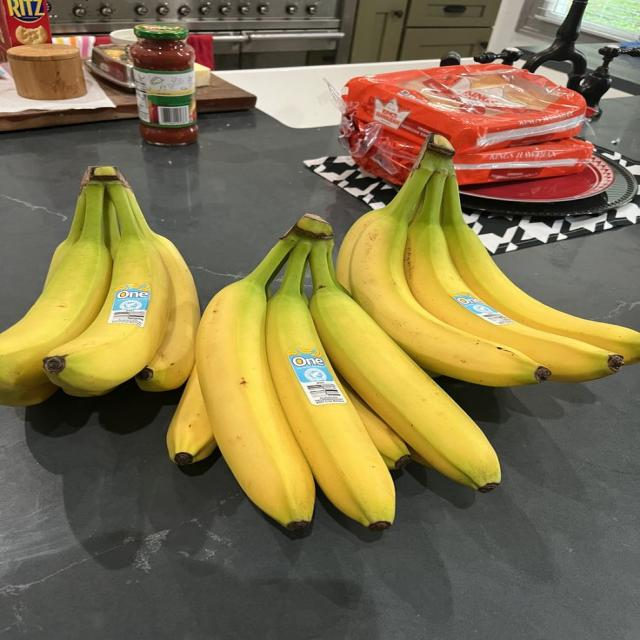unpeal banana: (350, 136, 550, 386), (406, 160, 622, 382), (310, 241, 500, 491), (267, 239, 394, 530), (196, 237, 314, 529), (442, 199, 639, 364), (44, 168, 169, 394), (0, 169, 111, 403), (127, 190, 199, 391), (335, 171, 430, 290), (343, 383, 411, 469), (167, 366, 216, 465), (45, 186, 86, 285), (0, 381, 59, 406), (105, 198, 119, 259)
